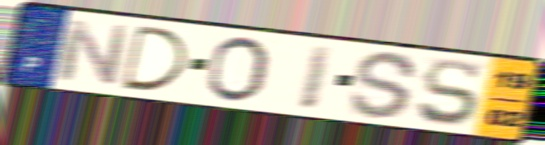D: (120, 23, 191, 94)
I: (295, 42, 337, 112)
N: (54, 17, 132, 88)
O: (202, 34, 272, 105)
S: (347, 49, 422, 122), (413, 57, 482, 129)
